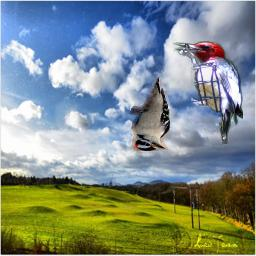Woodpecker: (173, 41, 243, 144), (130, 77, 170, 151)
